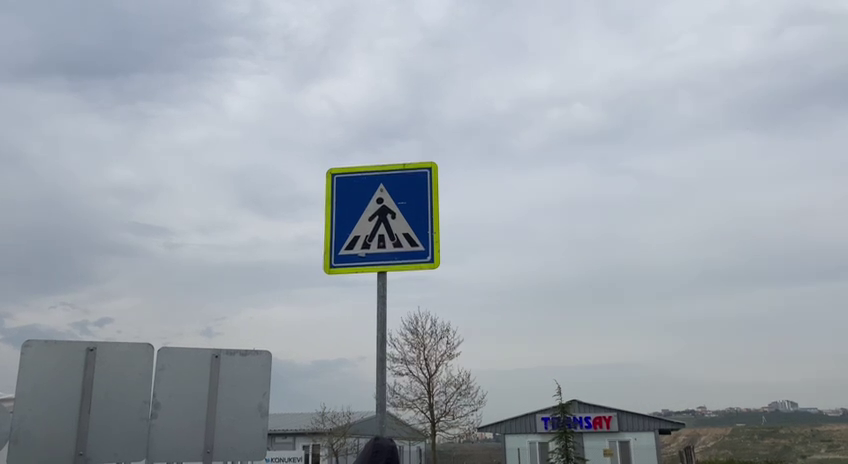pedestrianCrossing: (320, 160, 441, 277)
